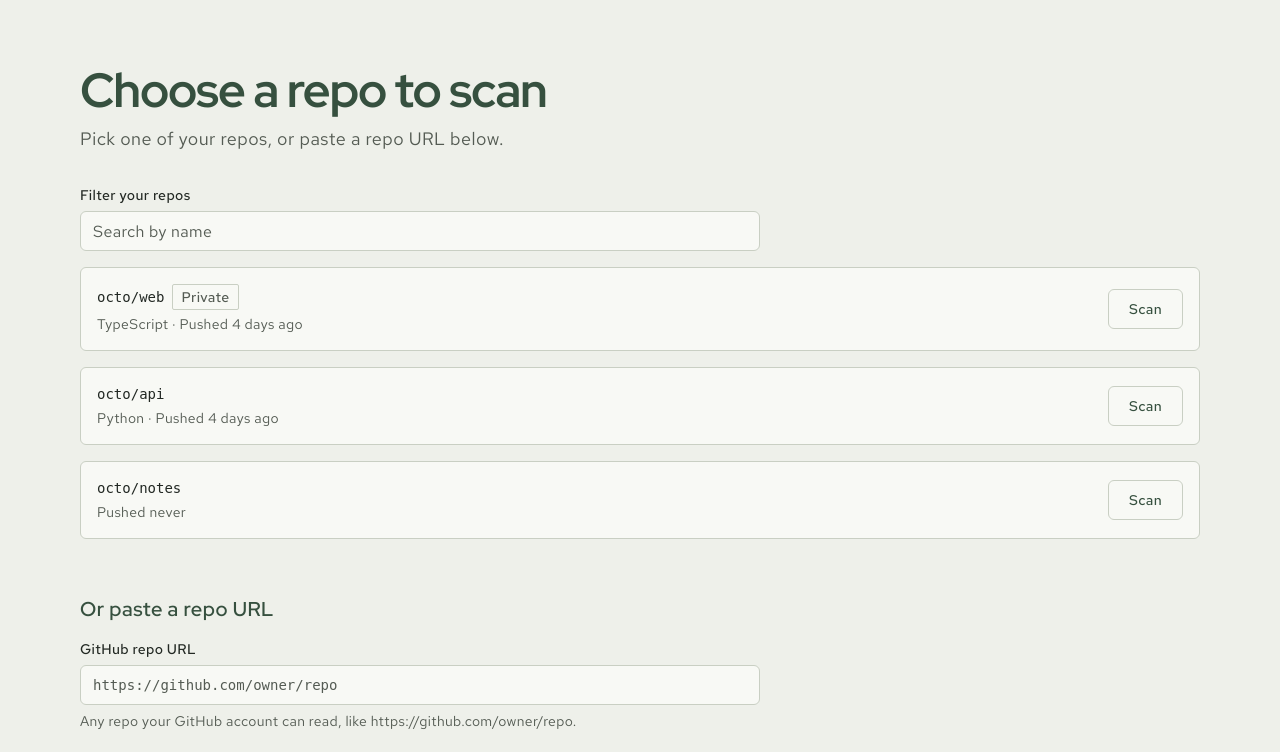
when you're signed in › explains a failure to start a scan and lets you try another
The image size is (1280, 752).
Click the button with aria-label "Scan octo/web".
click(1145, 309)  # box [1108,289,1183,329]
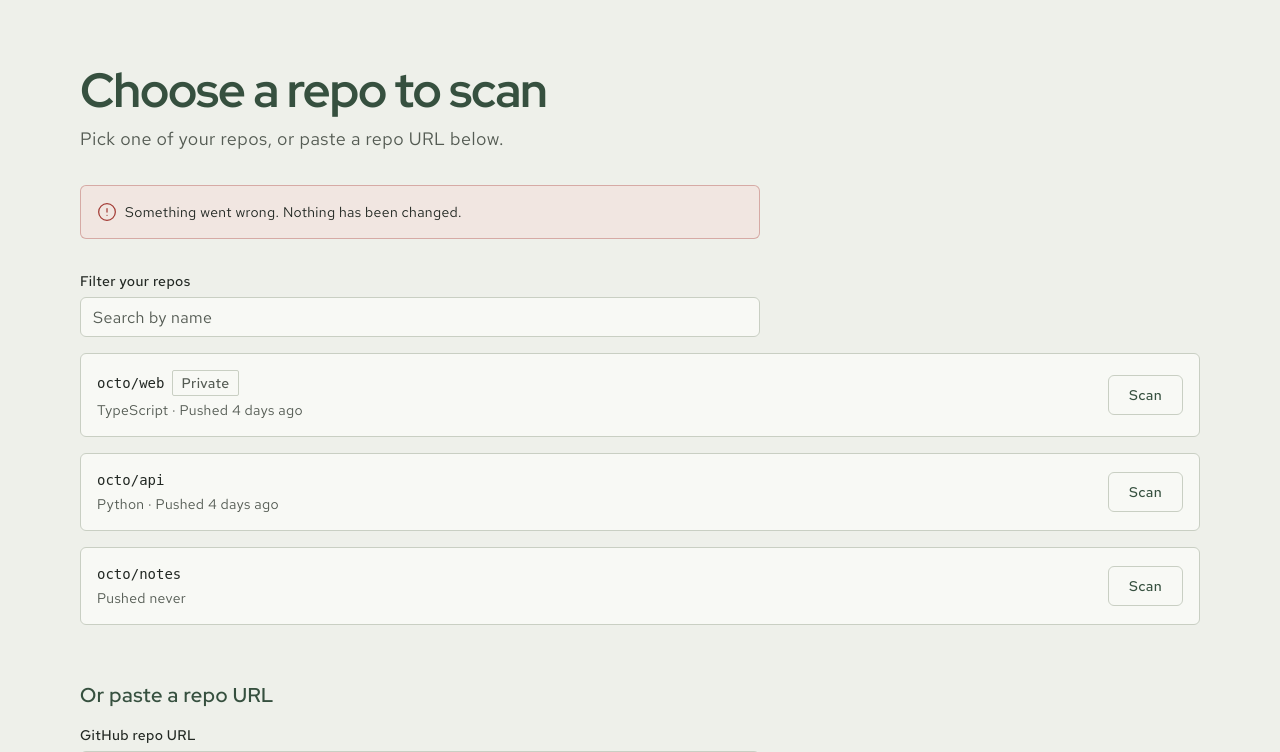
Expected: the button with aria-label "Scan octo/api" is enabled, [1108,472,1183,512]
Now the message reads "Something went wrong. Nothing has been changed.", box [125,203,462,221]
